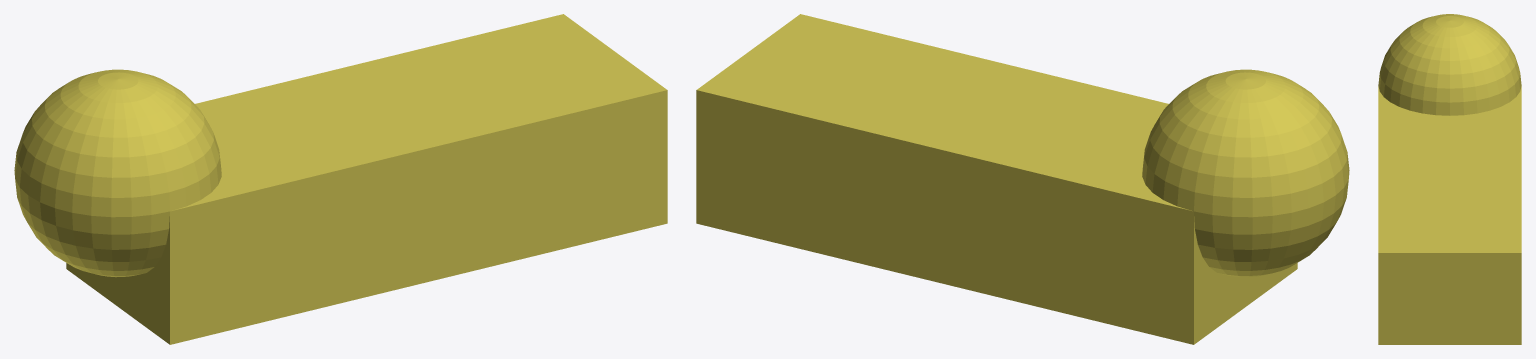
Rendered from foot.dae.
3 renders of one model, left to right at view 1: azimuth 30°, elevation 25°; view 2: azimuth 150°, elevation 25°; view 3: azimuth 270°, elevation 25°, orthographic. The views are drawn at different scales.
Parts seen in each view (by area): view 1: Sphere; view 2: Sphere; view 3: Sphere.
Part boxes in pixels (left/top/right/bottom): Sphere: left=14, top=14, right=667, bottom=344; Sphere: left=696, top=14, right=1349, bottom=344; Sphere: left=1378, top=14, right=1521, bottom=344.
Bounding box in the file's own units: 0.2872 × 0.088 × 0.1064.
